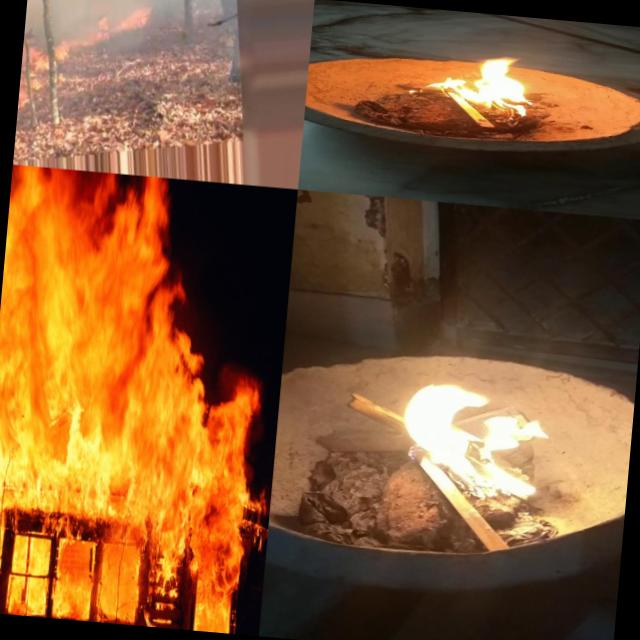fire: (0, 163, 297, 635), (387, 378, 556, 510), (420, 36, 560, 115), (14, 40, 51, 152), (97, 0, 154, 45), (52, 37, 72, 64)
